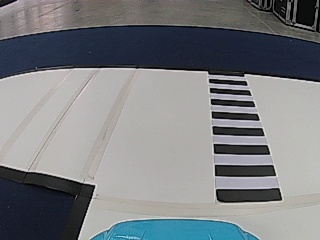CrossWalk: (207, 70, 282, 203)
